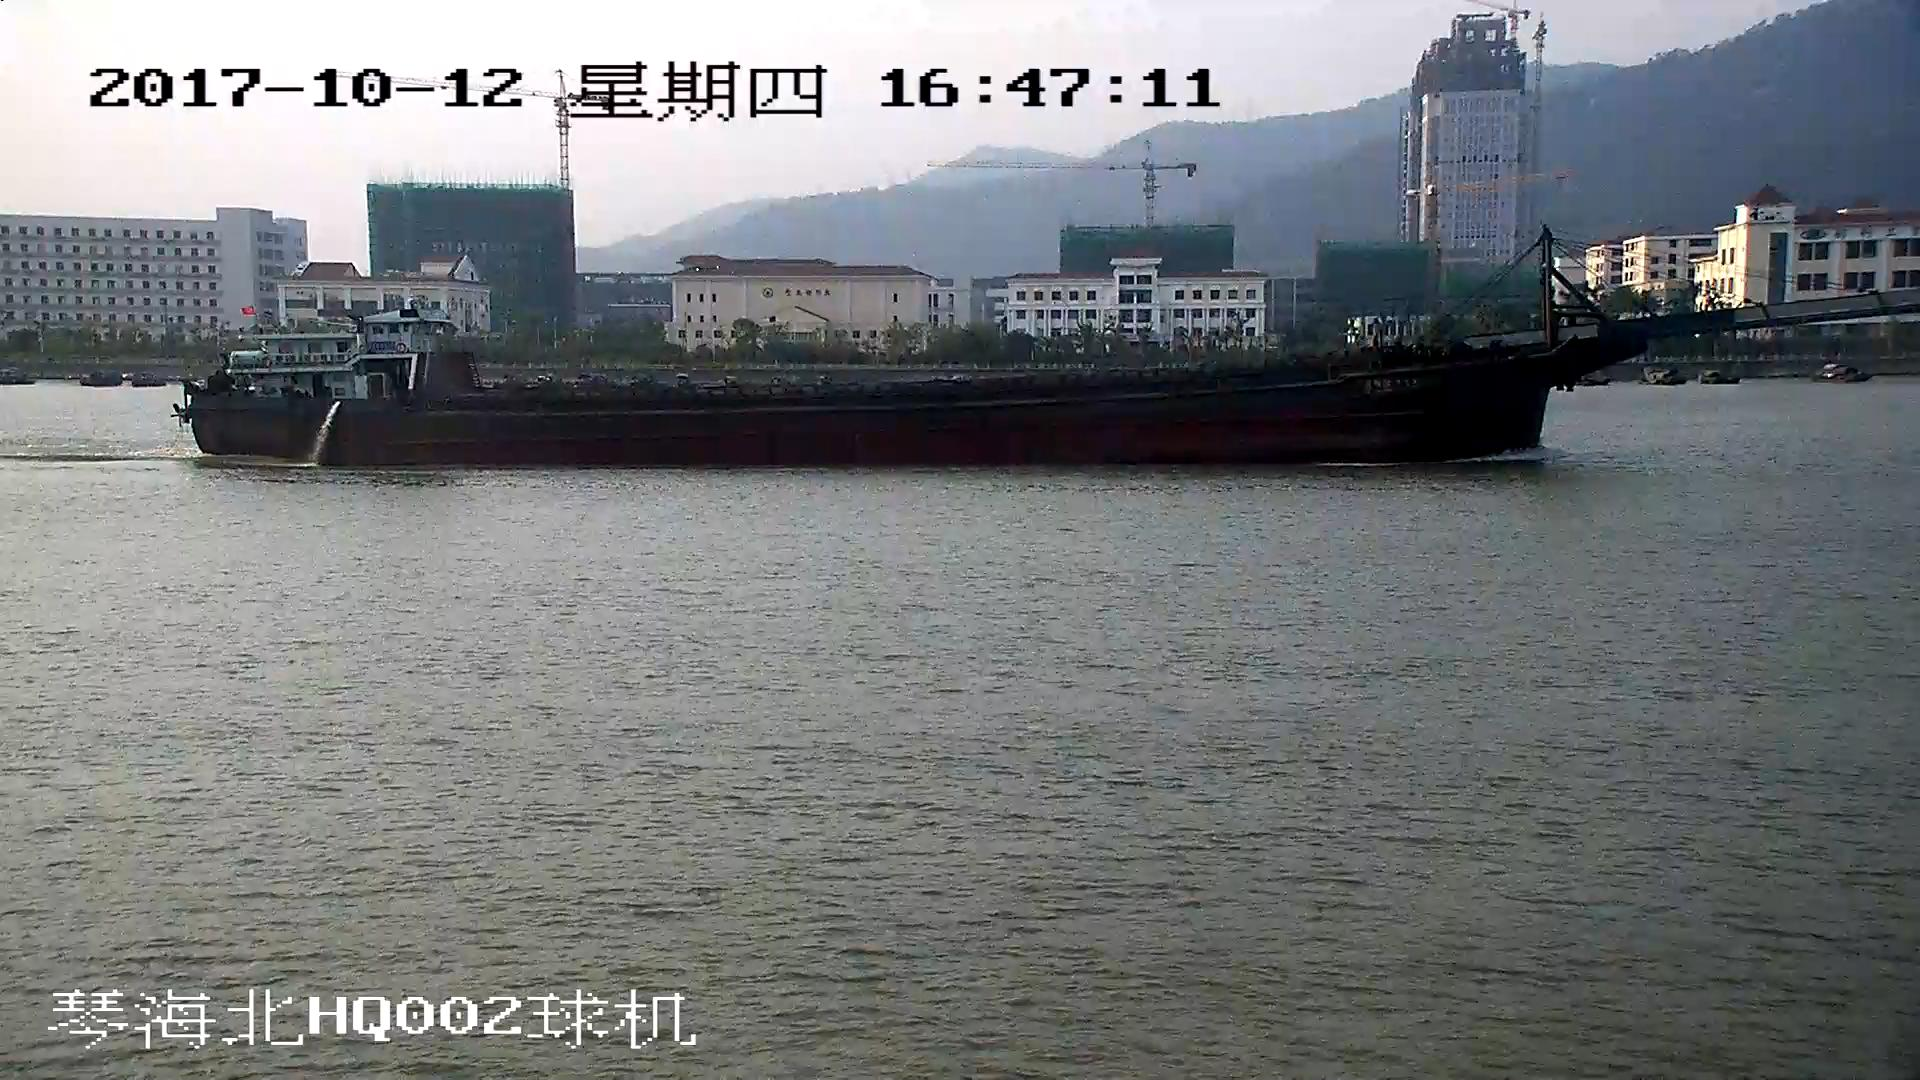bulk cargo carrier: (191, 223, 1920, 467)
